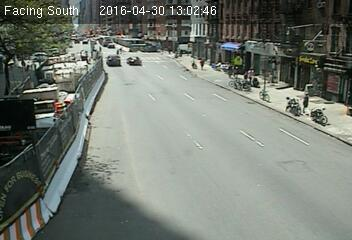neg: (279, 93, 297, 117), (312, 105, 330, 128), (223, 70, 241, 93), (258, 84, 273, 104)
pos: (295, 90, 317, 118), (244, 65, 261, 88), (196, 55, 209, 71)
